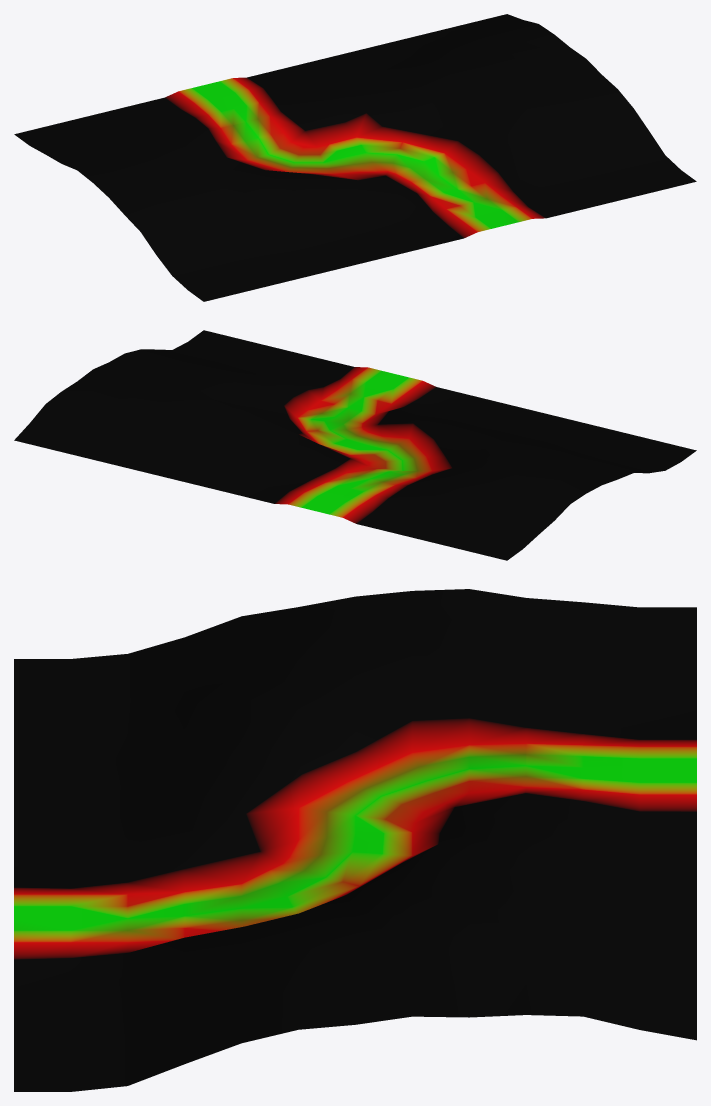
Rendered from Section_WayWaveTransition01_Steppe_Terrain.fbx.
The picture shows the model from 3 angles, top to bottom: view 1: azimuth 30°, elevation 25°; view 2: azimuth 150°, elevation 25°; view 3: azimuth 270°, elevation 25°; orthographic projection. The views are drawn at different scales.
Visible parts, largest first — view 1: Section_WayWaveTransition01_Steppe_Terrain; view 2: Section_WayWaveTransition01_Steppe_Terrain; view 3: Section_WayWaveTransition01_Steppe_Terrain.
Boxes of the visible parts, box(x1,y1,x2,y2) form: Section_WayWaveTransition01_Steppe_Terrain: box(14, 14, 696, 301); Section_WayWaveTransition01_Steppe_Terrain: box(14, 330, 696, 560); Section_WayWaveTransition01_Steppe_Terrain: box(14, 589, 696, 1091).
Size of the model in its own units: 9000 by 775 by 6000.
